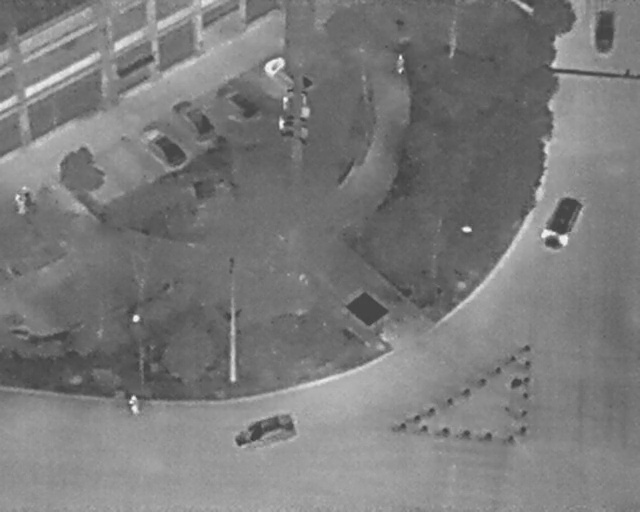Car: (228, 406, 301, 459), (535, 188, 588, 255), (134, 118, 192, 176), (258, 49, 313, 102), (168, 90, 220, 146), (211, 72, 264, 123), (592, 8, 617, 56)
Person: (11, 191, 28, 217), (18, 185, 33, 206), (127, 392, 140, 416), (394, 52, 405, 76)
